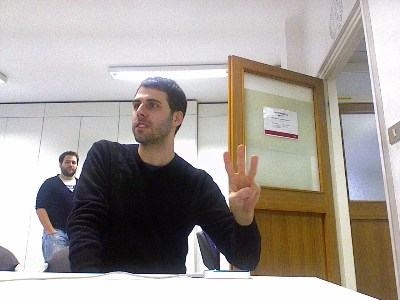三分: (222, 143, 260, 215)
